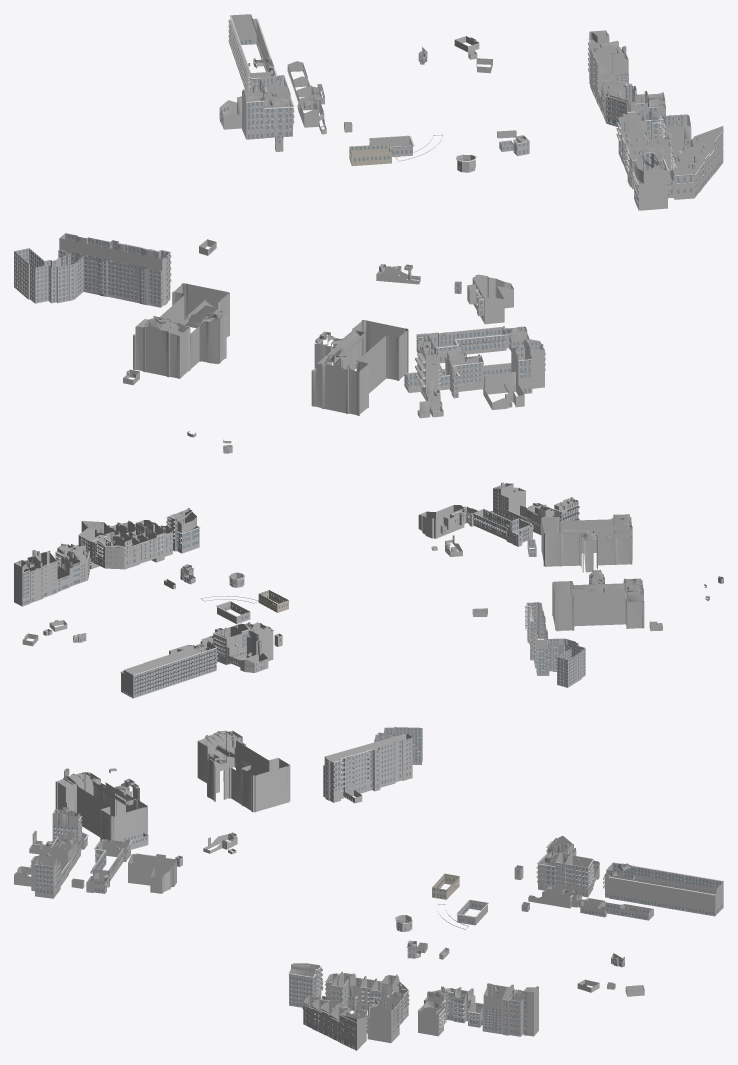
Rendered from bati-facades-v3b.glb.
The picture shows the model from 3 angles, top to bottom: view 1: azimuth 30°, elevation 25°; view 2: azimuth 150°, elevation 25°; view 3: azimuth 270°, elevation 25°; orthographic projection. The views are drawn at different scales.
Visible parts, largest first — view 1: bati-facades-v3b; view 2: bati-facades-v3b; view 3: bati-facades-v3b.
Boxes of the visible parts, <box> form: bati-facades-v3b: <box>14,14,723,453</box>; bati-facades-v3b: <box>14,482,723,698</box>; bati-facades-v3b: <box>14,727,723,1050</box>.
Bounding box in the file's own units: 424 × 47.37 × 445.
